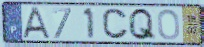1: (82, 7, 98, 40)
7: (51, 6, 72, 40)
A: (22, 6, 52, 40)
C: (101, 7, 130, 40)
O: (156, 8, 181, 41)
Q: (127, 7, 157, 42)
